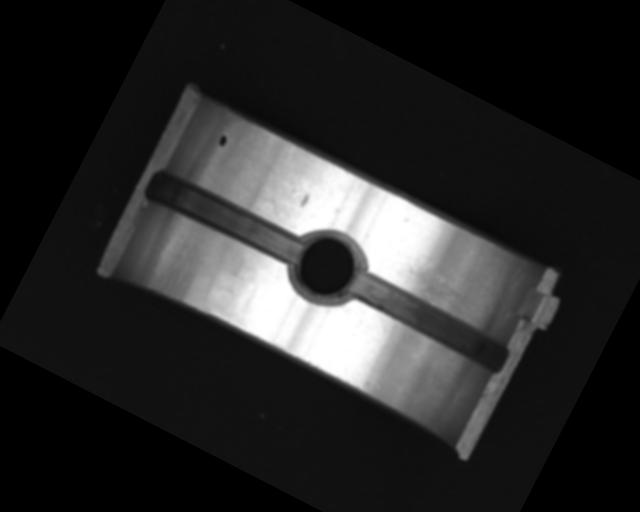blot: (216, 133, 229, 149)
bruise: (298, 193, 310, 209)
gap: (343, 265, 514, 376), (143, 164, 306, 269)
hole: (276, 216, 376, 318)
scratch: (388, 246, 502, 332)
